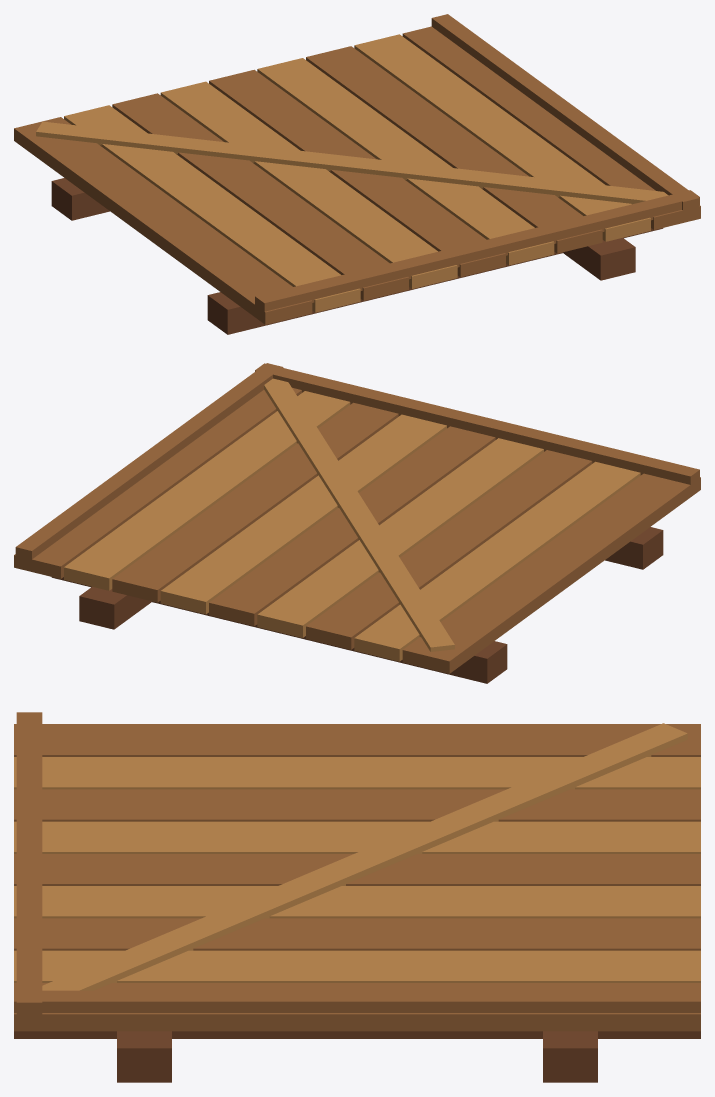
Rendered from boardwalk_corner.glb.
3 views of the same model, one above another, from view 1: azimuth 30°, elevation 25°; view 2: azimuth 150°, elevation 25°; view 3: azimuth 270°, elevation 25° (orthographic). The views are drawn at different scales.
Visible parts, largest first — view 1: boardwalk_corner.001; view 2: boardwalk_corner.001; view 3: boardwalk_corner.001.
Part boxes in pixels (x1,y1,x2,y2): boardwalk_corner.001: [14, 14, 700, 334]; boardwalk_corner.001: [14, 363, 700, 683]; boardwalk_corner.001: [14, 712, 700, 1082].
Size of the model in its own units: 2 by 0.257 by 2.
